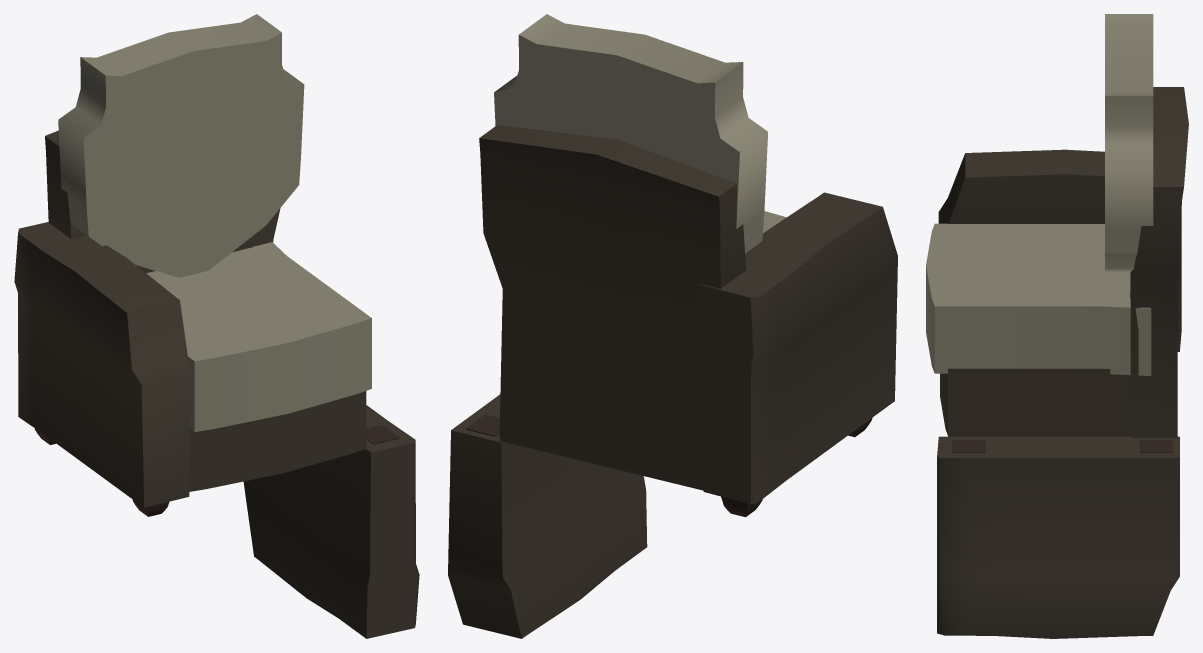
File: armchair.FBX
3 views of the same model, side by side, from view 1: azimuth 30°, elevation 25°; view 2: azimuth 150°, elevation 25°; view 3: azimuth 270°, elevation 25° (orthographic). The views are drawn at different scales.
Visible parts, largest first — view 1: Seat001, ArmL001, Seat, ArmL, Base, Back; view 2: Back, ArmL001, ArmL, Seat001; view 3: ArmL, Seat, Back, Base, Seat001, ArmL001, Box006, Box007.
Part boxes in pixels (<box>): Seat001: <box>58,14,304,277</box>; ArmL001: <box>14,222,190,507</box>; Seat: <box>146,242,371,431</box>; ArmL: <box>243,405,419,638</box>; Base: <box>189,391,366,491</box>; Back: <box>45,130,280,273</box>; Back: <box>479,125,745,490</box>; ArmL001: <box>698,192,897,504</box>; ArmL: <box>448,394,647,638</box>; Seat001: <box>494,14,767,253</box>; ArmL: <box>937,436,1179,638</box>; Seat: <box>926,223,1151,375</box>; Back: <box>1130,87,1188,437</box>; Base: <box>940,293,1130,436</box>; Seat001: <box>1105,14,1153,272</box>; ArmL001: <box>938,149,1181,351</box>; Box006: <box>952,440,985,452</box>; Box007: <box>1139,440,1172,452</box>.
Size of the model in its own units: 127 by 232 by 106.
